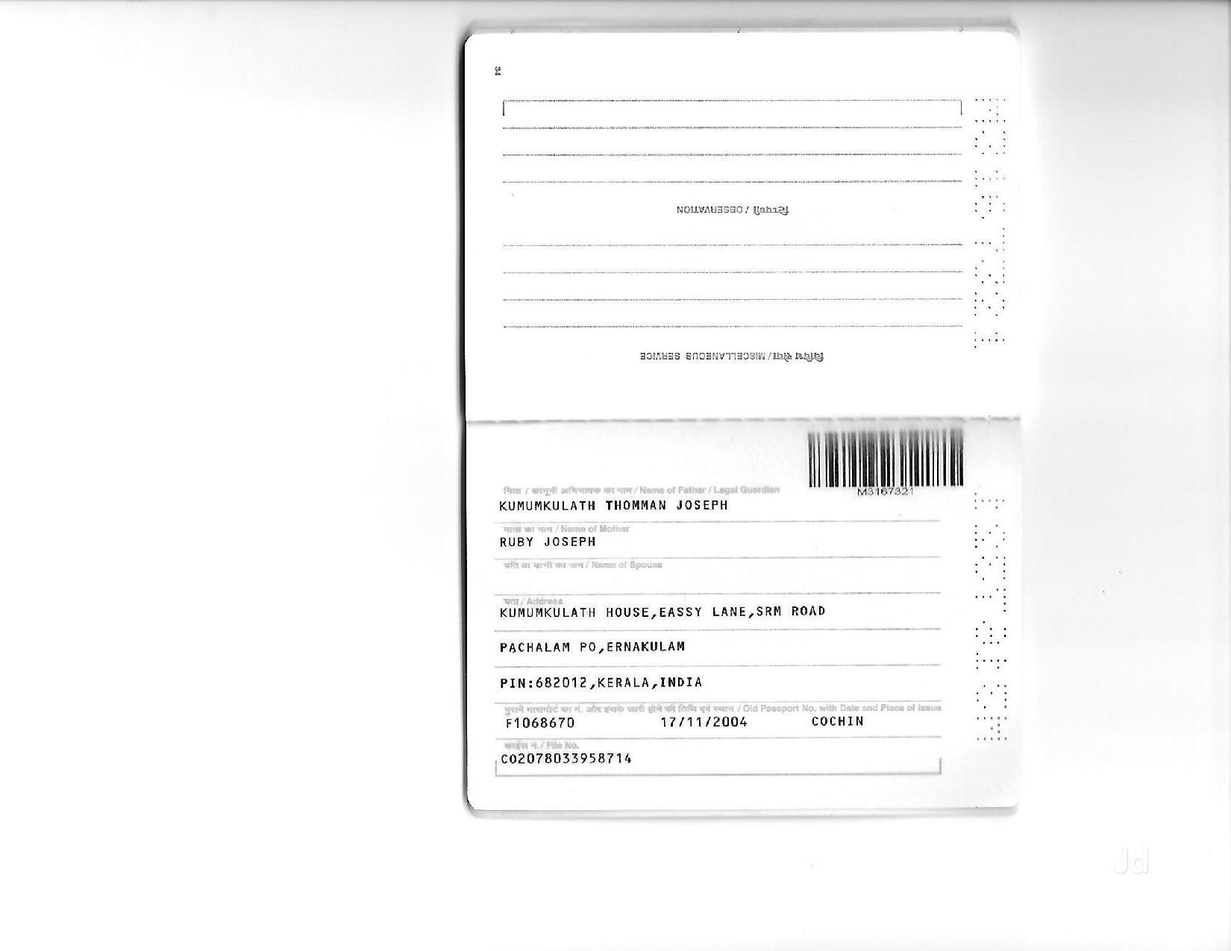File_no: (499, 751, 637, 769)
address: (492, 603, 832, 691)
father_name: (485, 490, 750, 520)
mother_name: (489, 528, 634, 556)
old_passport_details: (491, 707, 881, 736)
passport_no: (849, 485, 920, 497)
